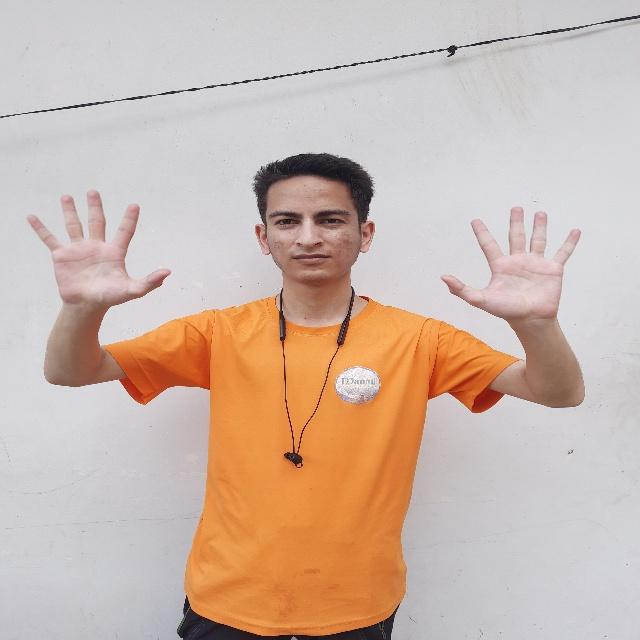Moutza: (22, 176, 174, 316), (435, 199, 586, 332)
